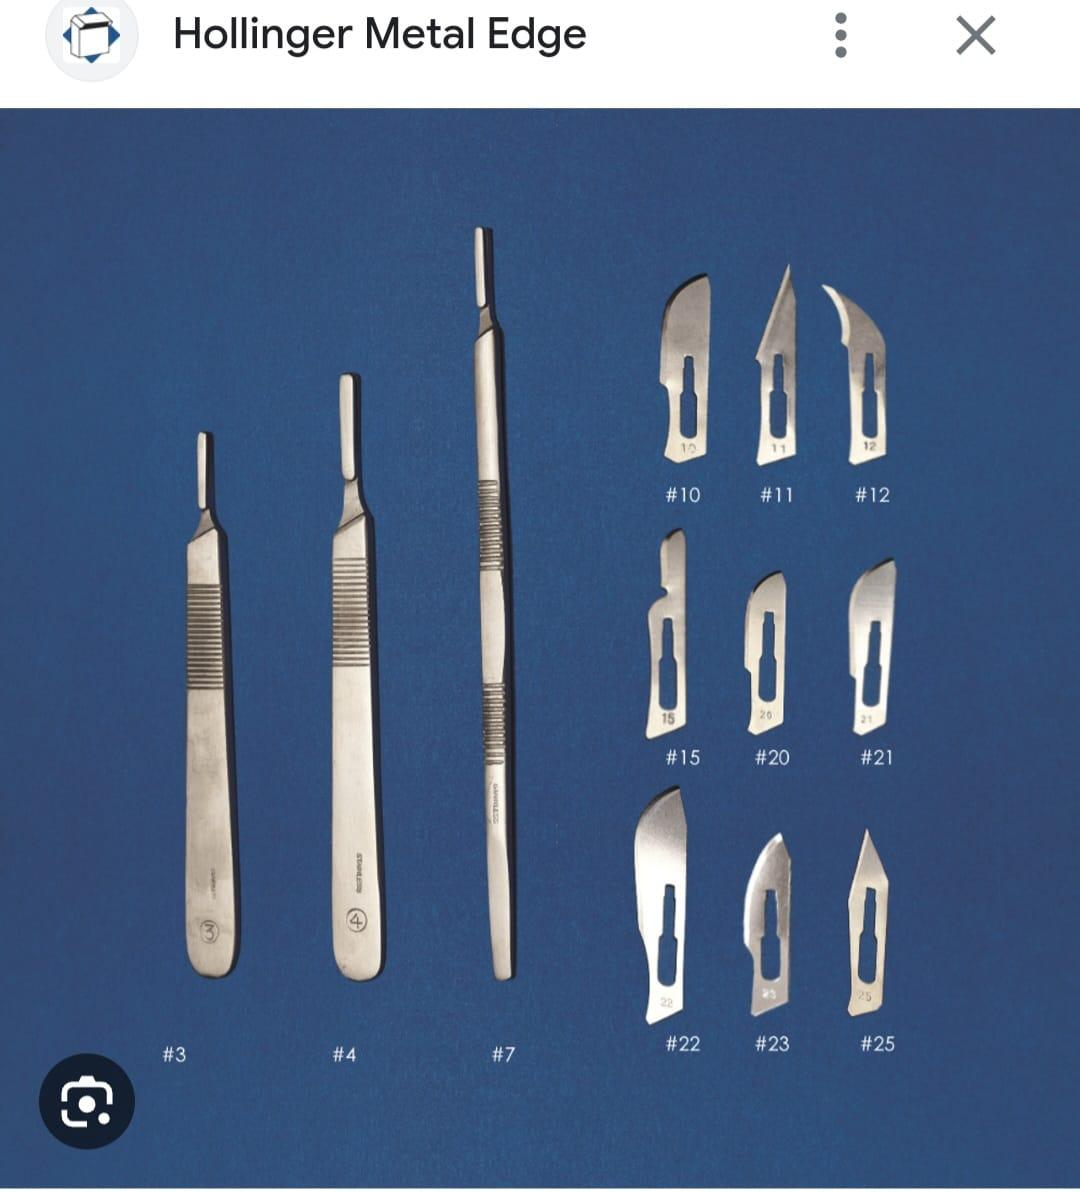Knife handle: (310, 365, 407, 1007), (162, 418, 260, 988)
Surgical blade: (631, 267, 724, 473), (625, 779, 700, 1030), (816, 276, 896, 466), (837, 817, 900, 1027), (741, 250, 800, 473), (735, 827, 800, 1025), (730, 562, 800, 741), (841, 548, 903, 743)
